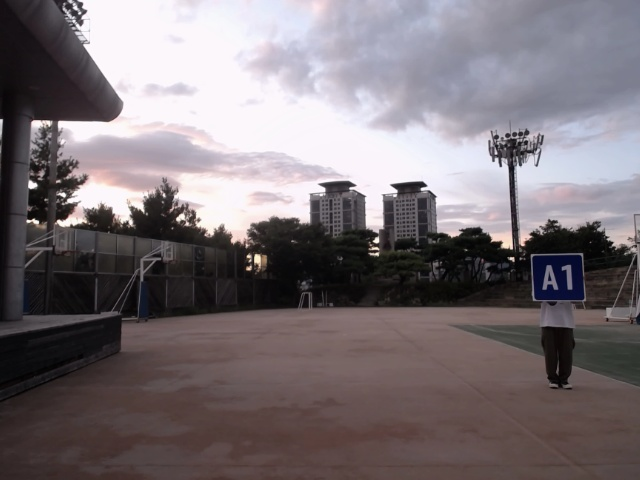delivery_a1: (532, 253, 585, 301)
